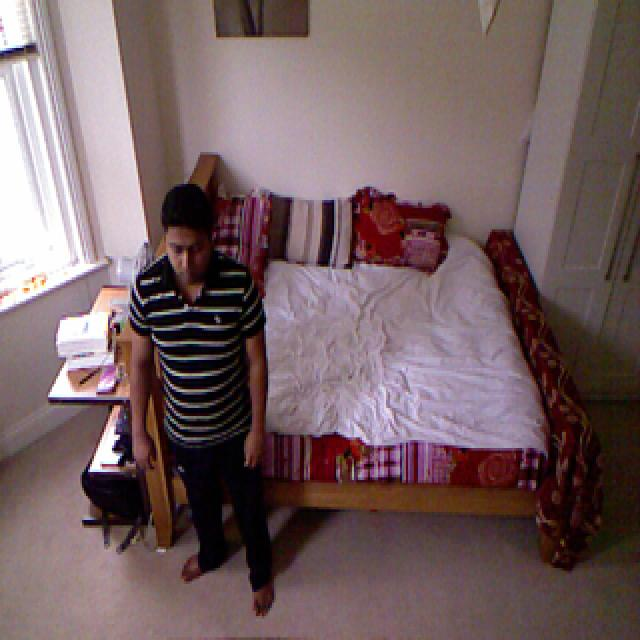standing: (129, 164, 274, 598)
